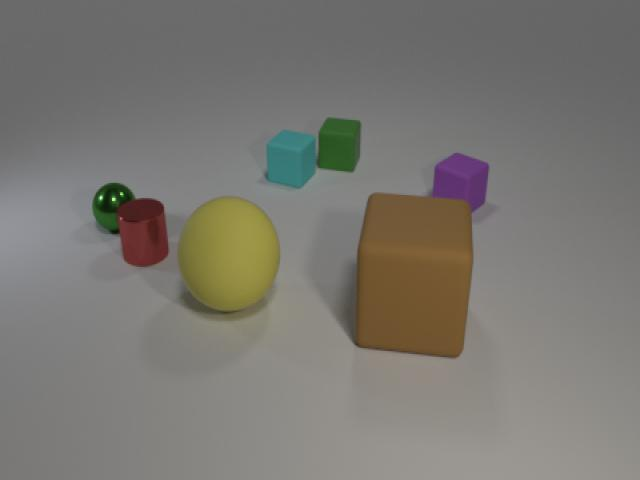cylinder: (116, 193, 172, 273)
round ball: (175, 192, 285, 324), (91, 178, 138, 234)
